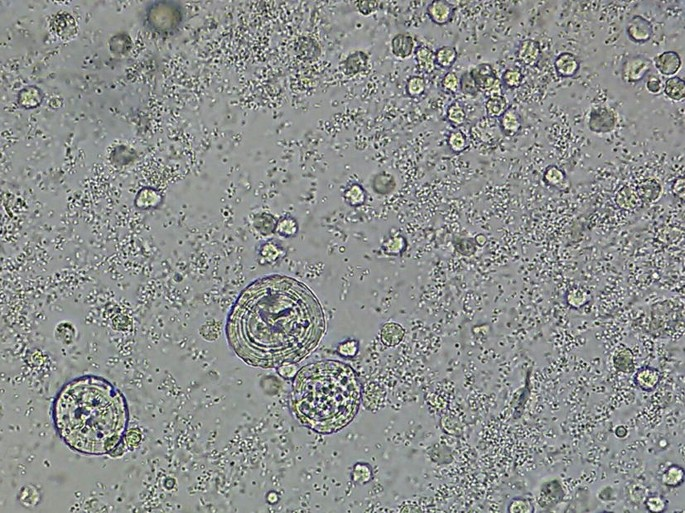Parasite: (225, 265, 331, 366), (48, 369, 129, 460), (287, 355, 368, 441)
